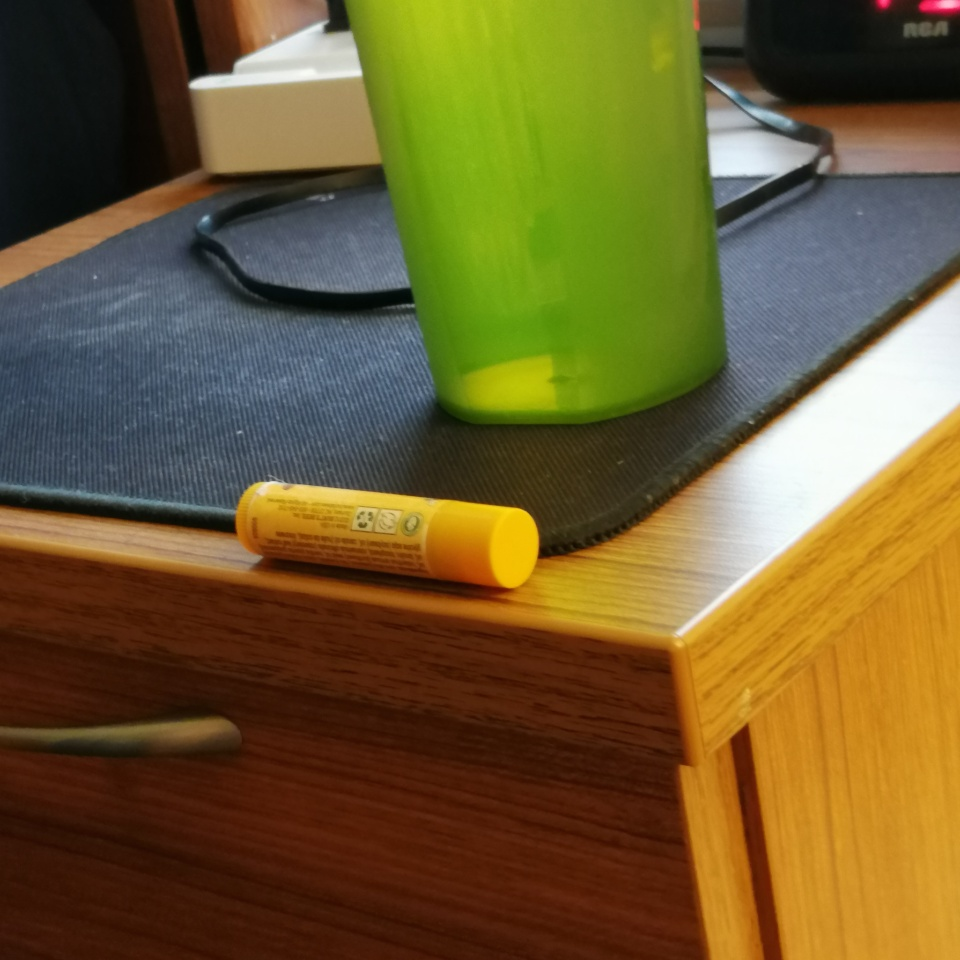chapstick: (236, 479, 540, 589)
